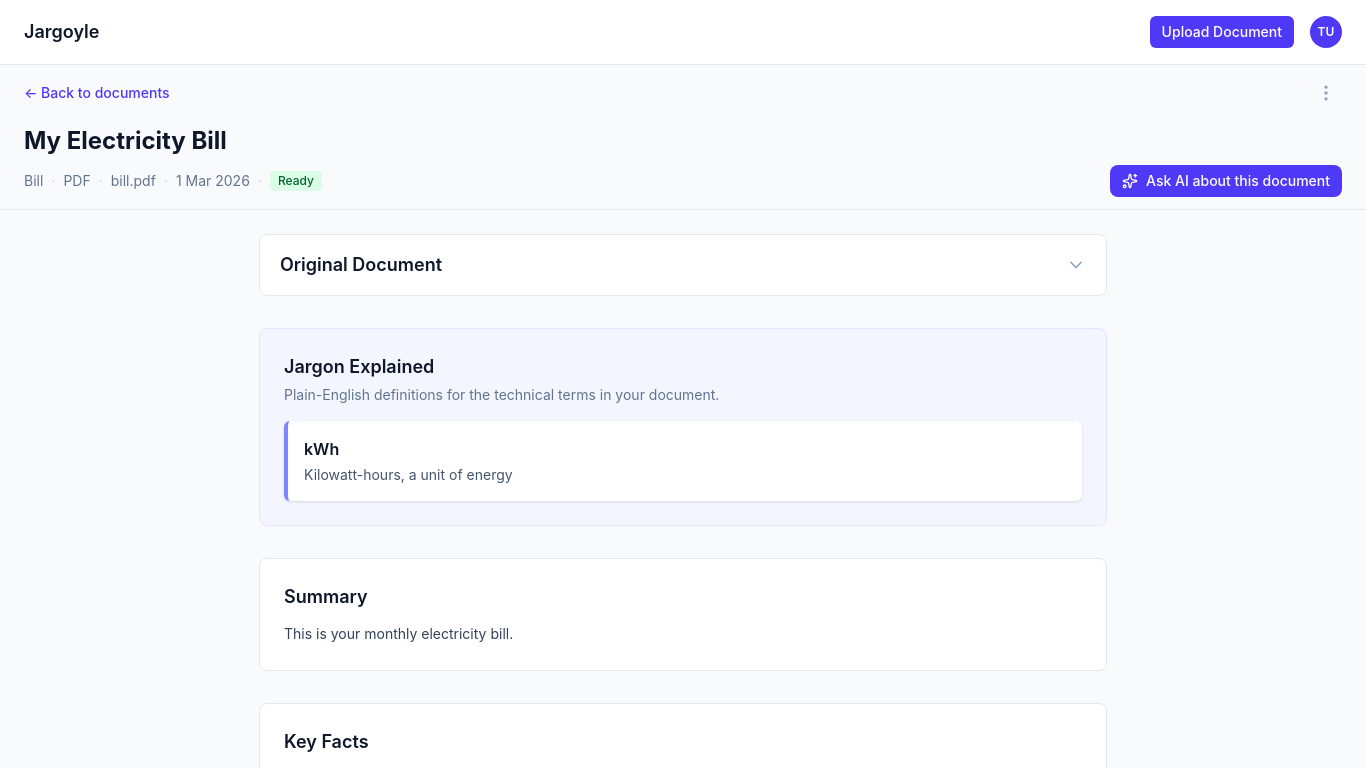
Scenario: DocumentDetailsPage › opens the chat drawer when "Ask AI" button is clicked
Expected: the heading "My Electricity Bill" is shown, [24,126,227,155]
Click the button "Ask AI about this document".
click(1226, 181)  # box [1110,165,1342,197]
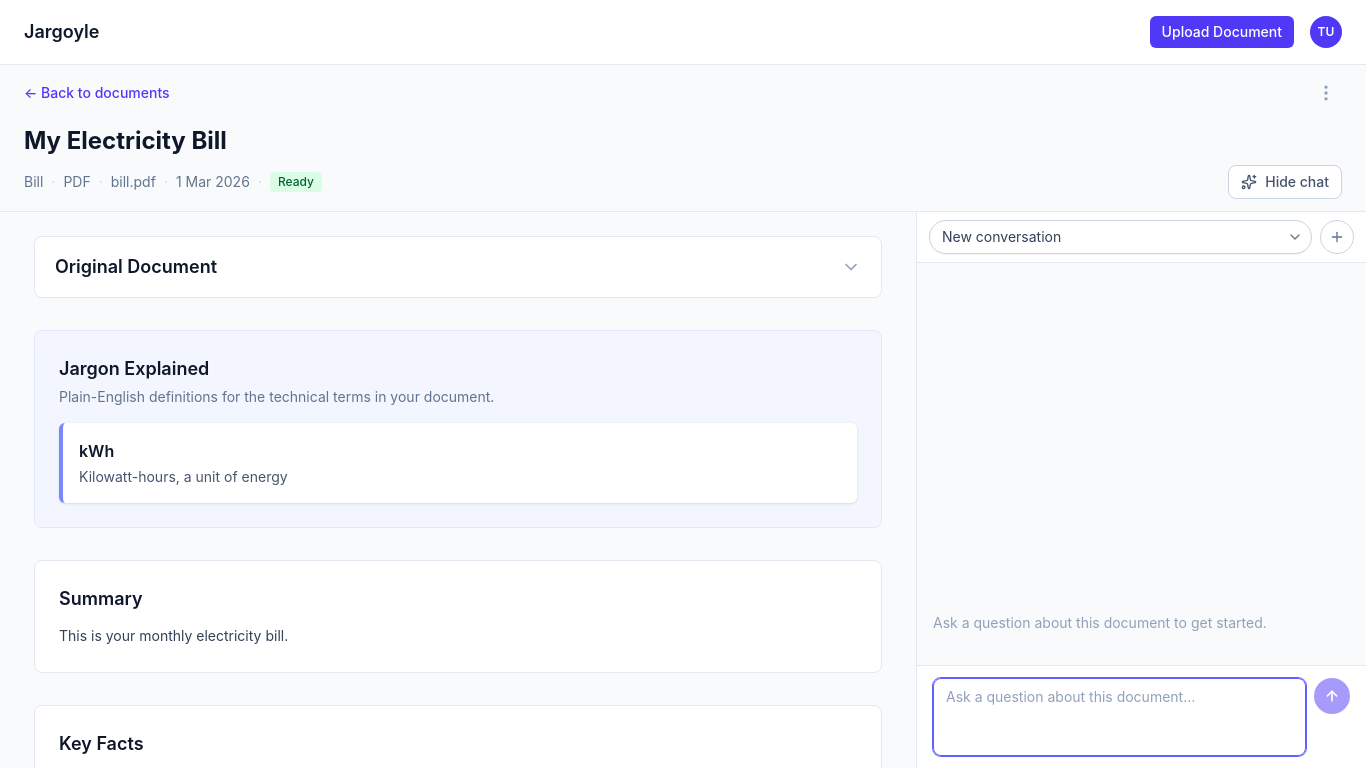
Expected: the button "Hide chat" is shown, [1228,165,1342,199]
